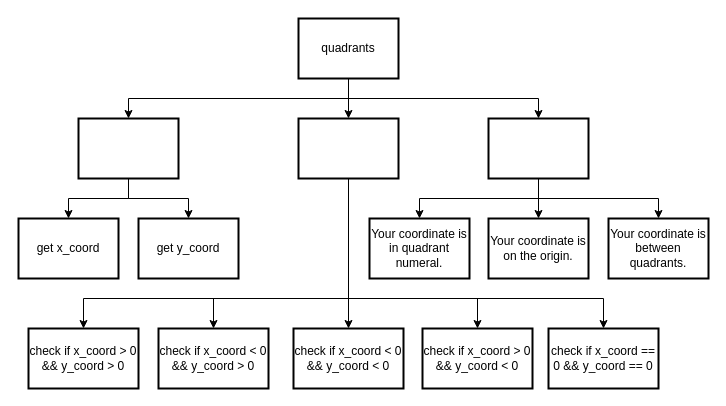
The diagram is 726 pixels wide and 406 high, and some of its shapes have lost their labels. The box of each missing label's shape, as (x1, y1, x2, y2) in pixels:
Input: (77, 117, 179, 179)
Output: (487, 117, 589, 179)
Process: (297, 117, 399, 179)
